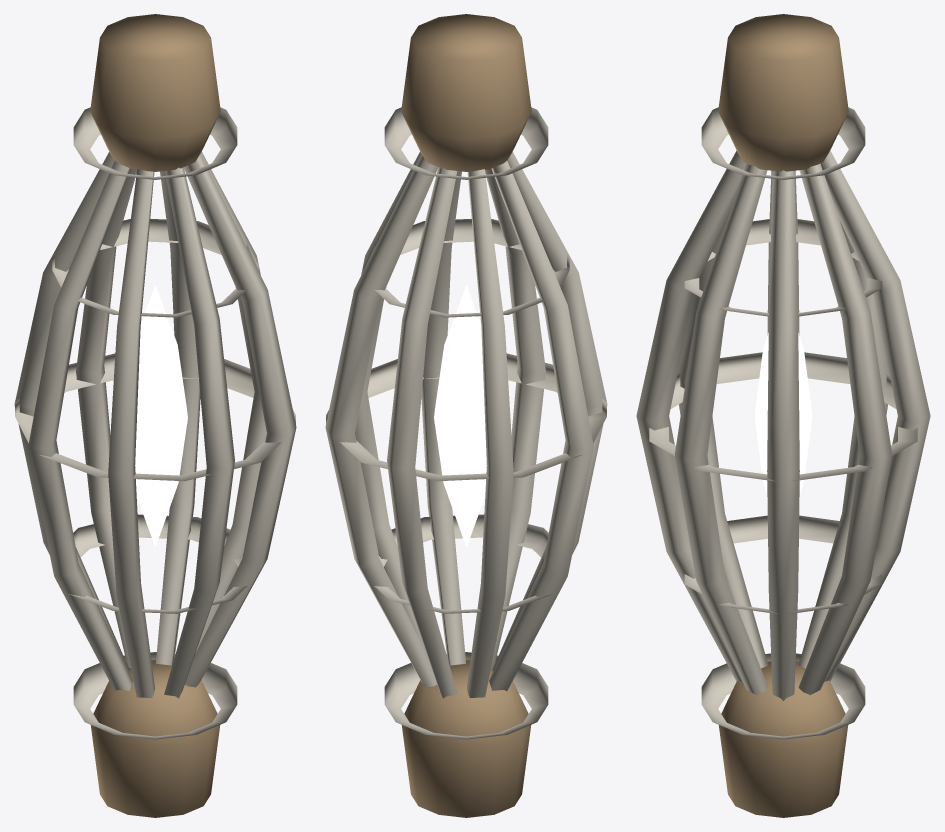
File: interior_uncommon.glb
The picture shows the model from 3 angles, left to right: view 1: azimuth 30°, elevation 25°; view 2: azimuth 150°, elevation 25°; view 3: azimuth 270°, elevation 25°; orthographic projection.
Parts seen in each view (by area): view 1: interior_uncommon; view 2: interior_uncommon; view 3: interior_uncommon.
Boxes of the visible parts, x1=… form: interior_uncommon: x1=14, y1=14, x2=296, y2=817; interior_uncommon: x1=325, y1=14, x2=607, y2=817; interior_uncommon: x1=636, y1=14, x2=930, y2=817.
Bounding box in the file's own units: 0.162 × 0.46 × 0.162.
